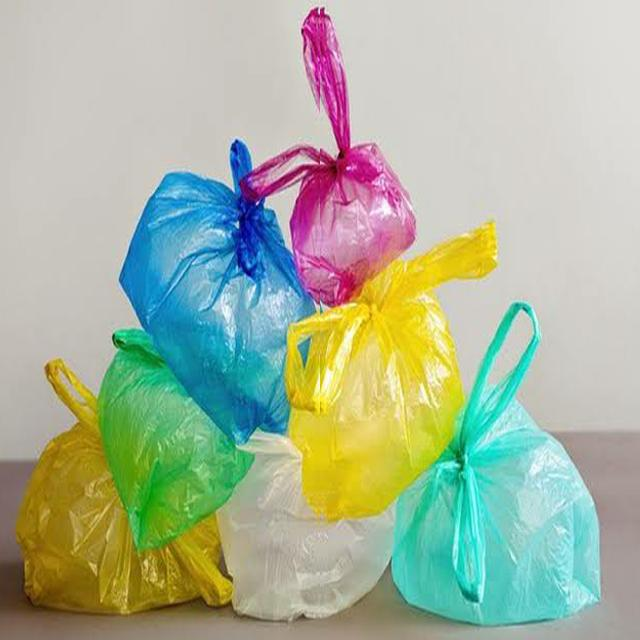Single-layer Plastic: (391, 302, 601, 625), (285, 224, 495, 520), (120, 140, 315, 444), (16, 360, 232, 614), (240, 8, 416, 306), (99, 329, 254, 551), (218, 432, 394, 620)
